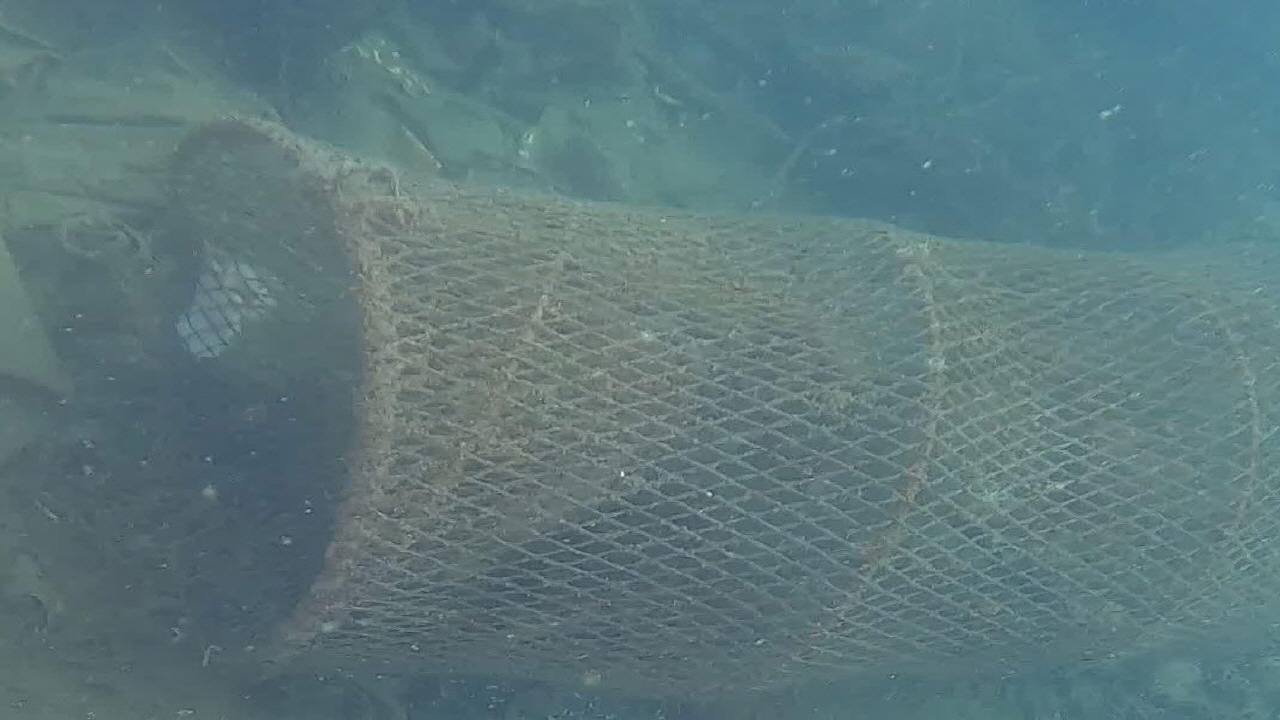spring fish trap: (142, 113, 1280, 680)
